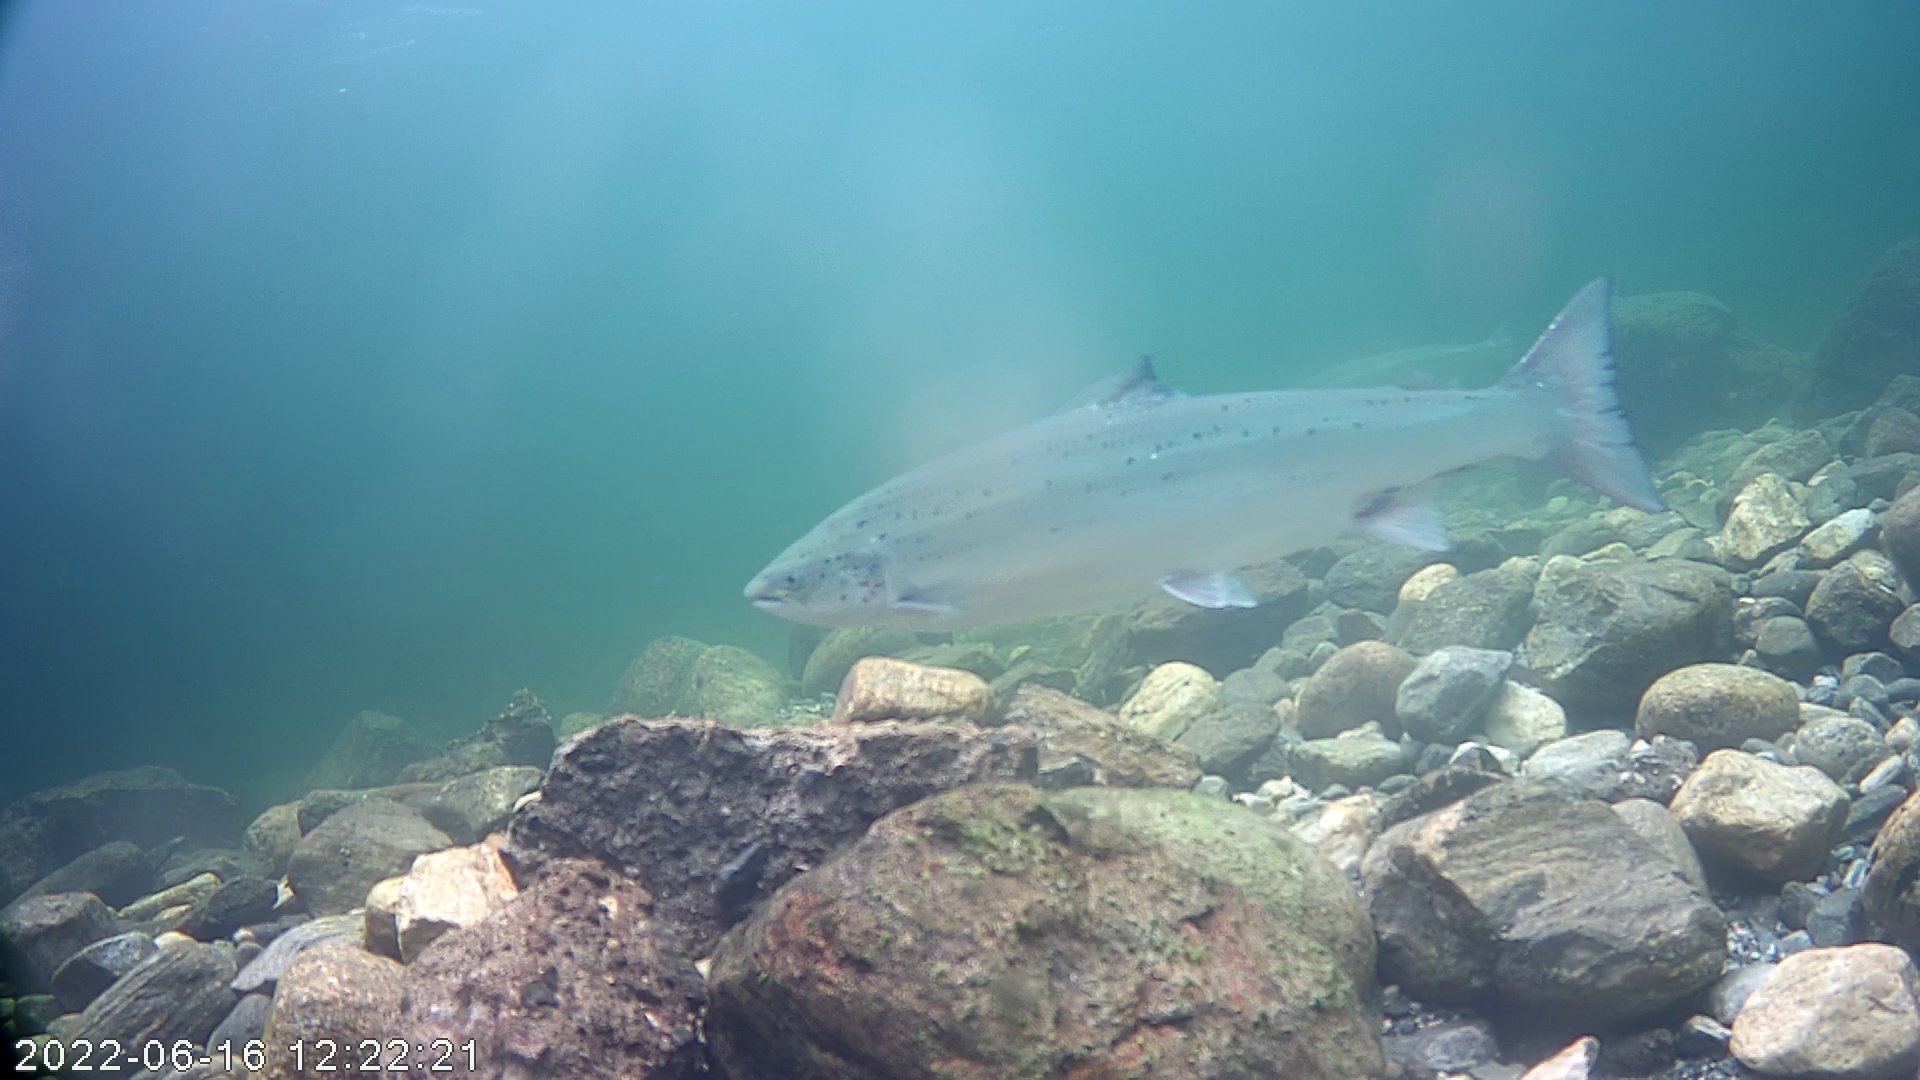salmon: (738, 269, 1673, 640)
